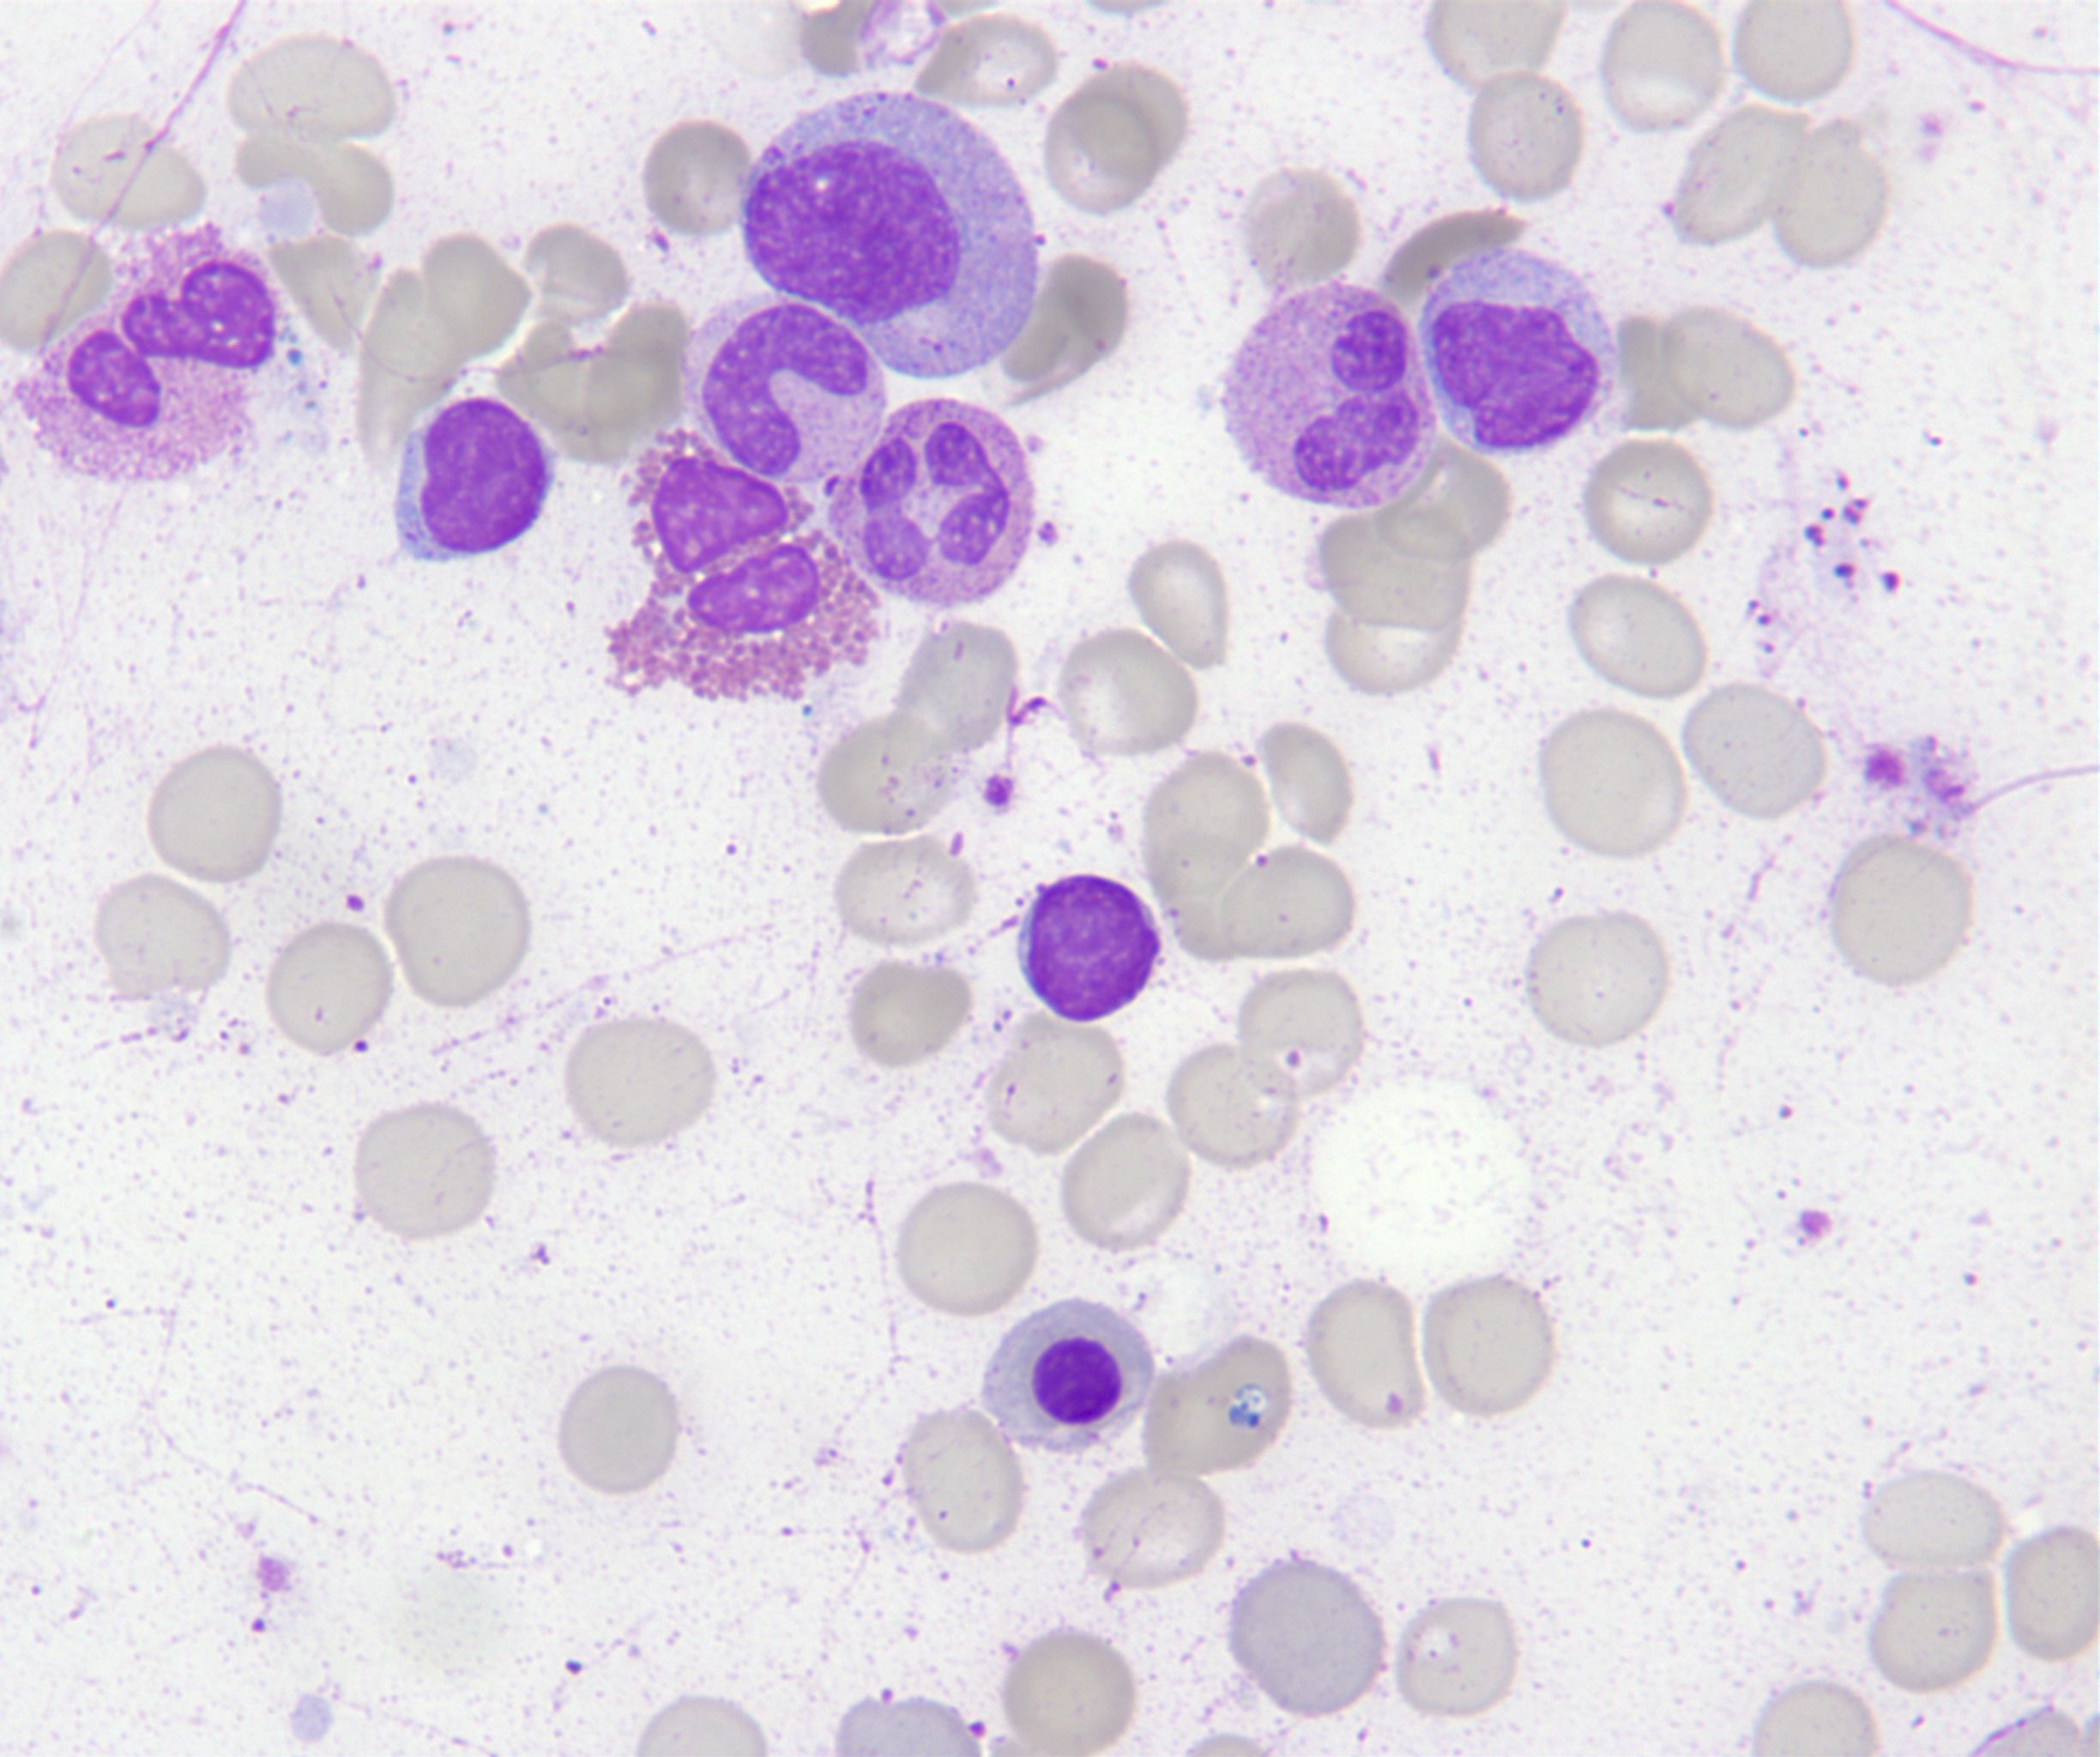24: (985, 1300, 1153, 1452)
3: (738, 94, 1038, 377), (1420, 251, 1617, 459)
32: (394, 398, 560, 565), (1017, 874, 1160, 1022)
5: (682, 293, 884, 485)
6: (16, 222, 281, 482), (1223, 286, 1437, 509), (830, 398, 1036, 609)
E4: (607, 429, 890, 703)
